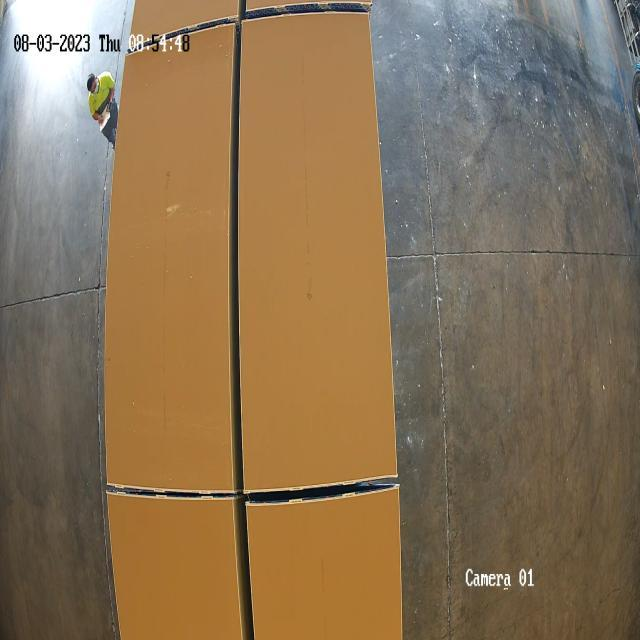person: (82, 67, 120, 149)
